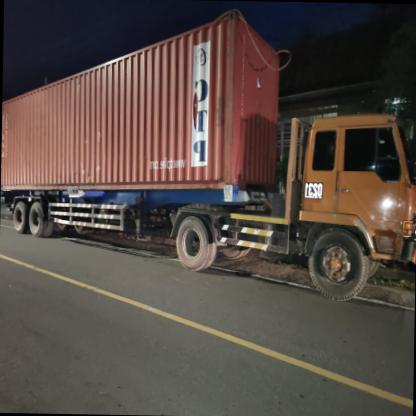truck: (293, 108, 416, 306)
